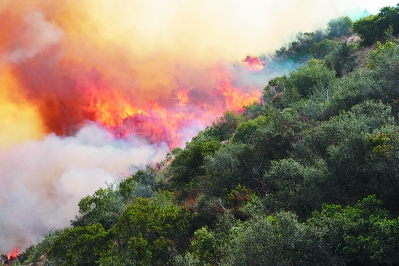fire: (3, 63, 261, 134)
smoke: (1, 146, 101, 215)
